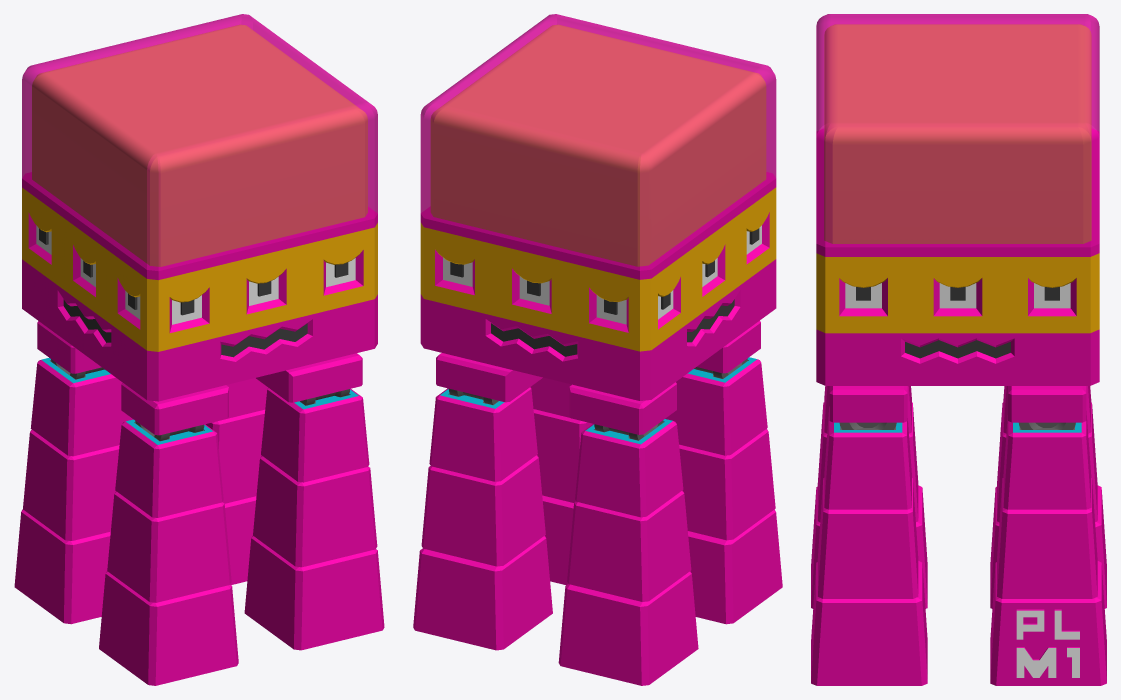
File: Lickquidator_PLM1.fbx
The picture shows the model from 3 angles, left to right: view 1: azimuth 30°, elevation 25°; view 2: azimuth 150°, elevation 25°; view 3: azimuth 270°, elevation 25°; orthographic projection. The views are drawn at different scales.
Parts seen in each view (by area): view 1: top_section, top_fill, case3 (×4), case2 (×4), case1 (×4), mid_casing, low_torso, leg_carraige2, leg_carraige1, pPlane1, eye_whites, leg_carraige4 (+1 smaller); view 2: top_section, top_fill, case3 (×4), case2 (×4), case1 (×4), mid_casing, low_torso, leg_carraige4, leg_carraige3, pPlane6, eye_whites, leg_carraige2 (+1 smaller); view 3: top_section, top_fill, case3 (×4), case2 (×4), mid_casing, case1 (×4), low_torso, pPlane5, leg_carraige1, leg_carraige3, decal, eye_whites (+3 smaller).
Part boxes in pixels (box(x1,y1,x2,y2)): top_section: box(22, 14, 377, 280); top_fill: box(32, 25, 367, 266); case3 (×4): box(14, 496, 384, 685); case2 (×4): box(23, 409, 377, 602); case1 (×4): box(30, 358, 369, 517); mid_casing: box(22, 187, 377, 351); low_torso: box(22, 259, 377, 401); leg_carraige2: box(121, 382, 228, 435); leg_carraige1: box(256, 353, 362, 402); pPlane1: box(220, 319, 312, 365); eye_whites: box(36, 225, 355, 324); leg_carraige4: box(37, 321, 101, 373); top_section: box(420, 14, 776, 279); top_fill: box(431, 25, 765, 266); case3 (×4): box(413, 495, 782, 685); case2 (×4): box(421, 409, 775, 601); case1 (×4): box(429, 357, 767, 517); mid_casing: box(420, 187, 776, 351); low_torso: box(420, 259, 776, 400); leg_carraige4: box(569, 382, 676, 434); leg_carraige3: box(436, 353, 542, 402); pPlane6: box(485, 319, 578, 365); eye_whites: box(443, 225, 761, 324); leg_carraige2: box(697, 320, 760, 373); top_section: box(816, 14, 1099, 256); top_fill: box(824, 24, 1091, 243); case3 (×4): box(811, 485, 1106, 685); case2 (×4): box(817, 402, 1097, 598); mid_casing: box(816, 253, 1099, 333); case1 (×4): box(824, 386, 1091, 509); low_torso: box(816, 329, 1099, 385); pPlane5: box(901, 338, 1014, 363); leg_carraige1: box(829, 386, 907, 422); leg_carraige3: box(1008, 386, 1086, 422); decal: box(1016, 609, 1079, 677); eye_whites: box(845, 283, 1070, 308).
Bounding box in the file's own units: 0.9751 × 2.05 × 0.9884.
